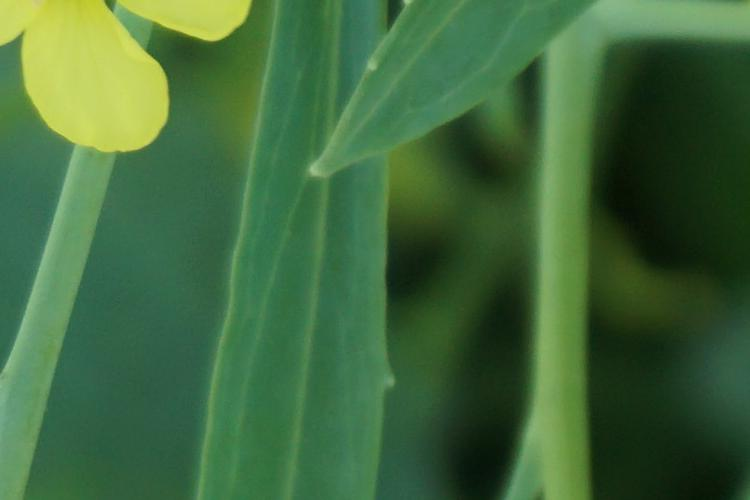yellow: (3, 1, 259, 155)
